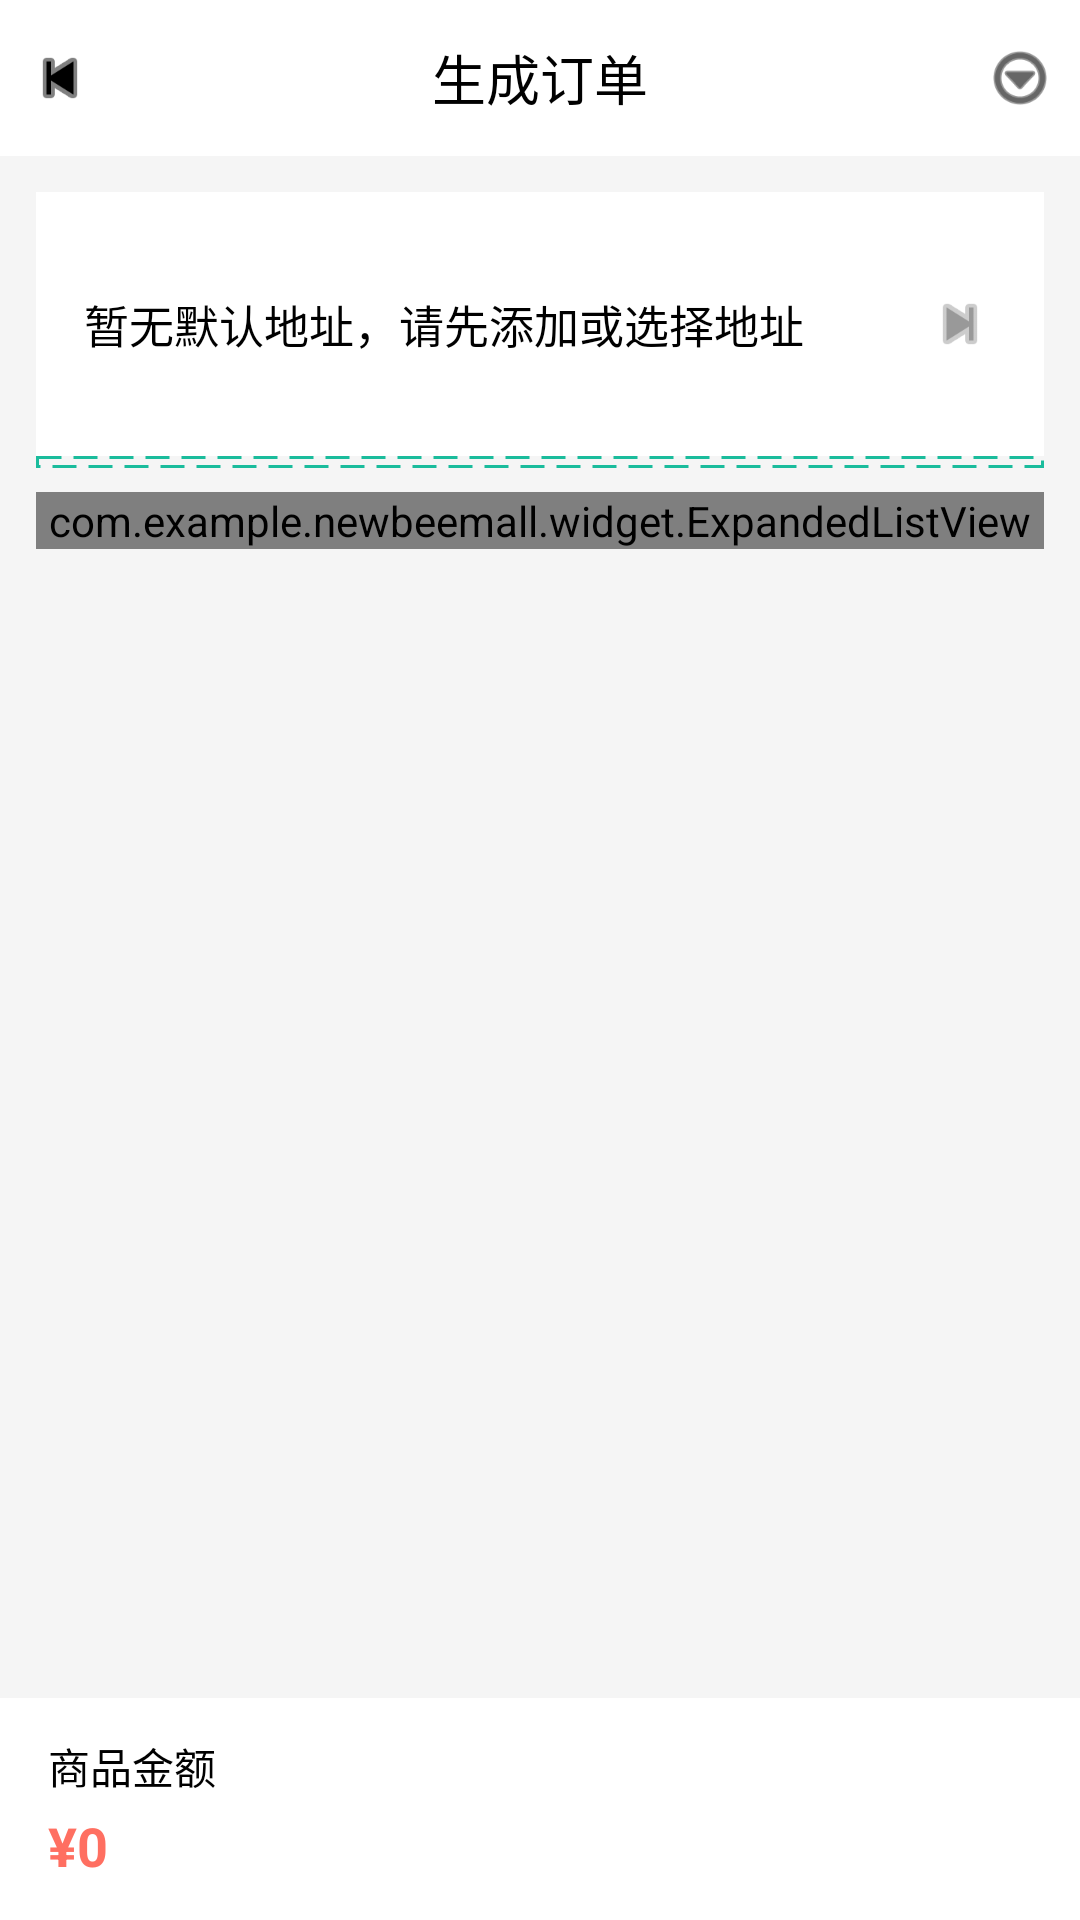

Named icons in this screenshot (1080px x 1920px) and their bounding boxes, (x1, y1, x2, y2):
more: (993, 51, 1047, 105)
next: (943, 304, 977, 344)
previous: (43, 58, 77, 98)
